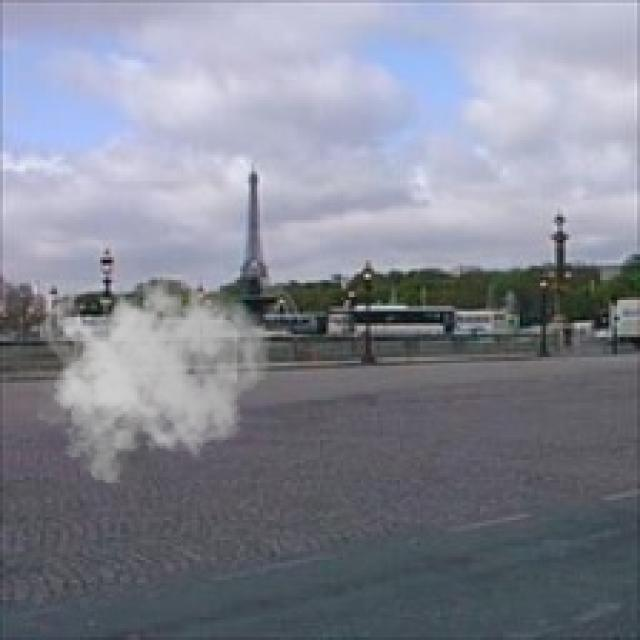Smoke: (37, 260, 272, 483)
